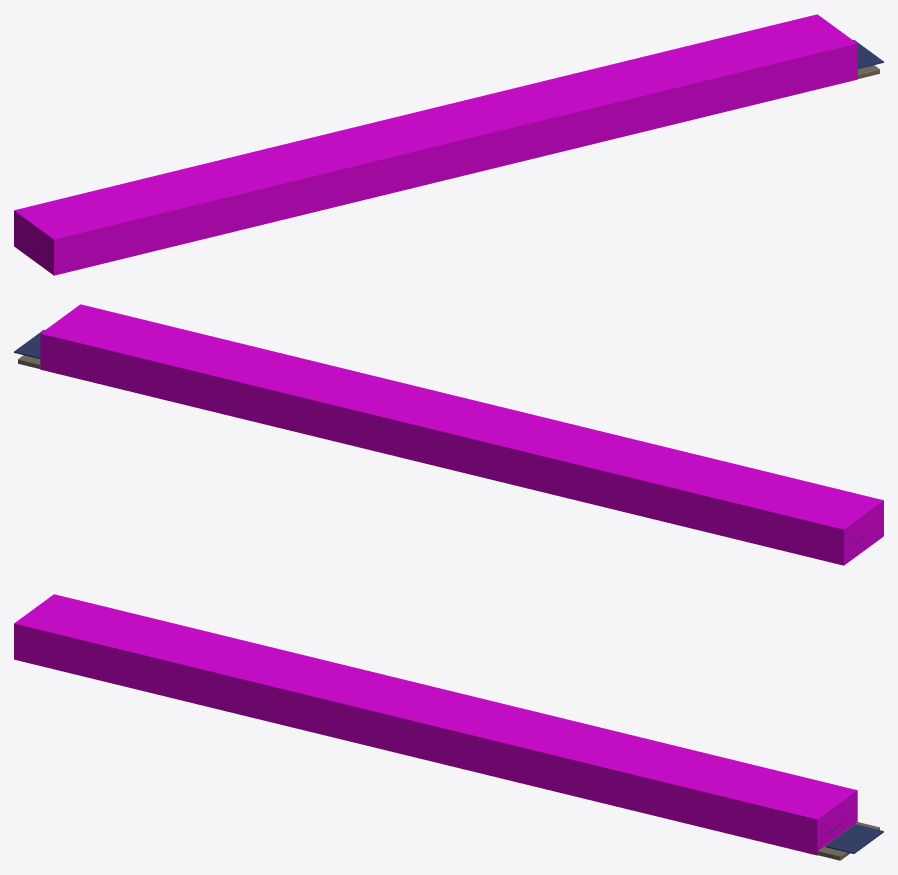
File: PRP_Channel_Restored_A.glb
3 renders of one model, top to bottom at view 1: azimuth 30°, elevation 25°; view 2: azimuth 150°, elevation 25°; view 3: azimuth 330°, elevation 25°, orthographic.
Visible parts, largest first — view 1: COL_Wall_-1, COL_Bed, COL_Wall_1; view 2: COL_Wall_1, COL_Bed, COL_Wall_-1; view 3: COL_Wall_-1, COL_Bed, COL_Wall_1, WATER_Channel.
Part boxes in pixels (x1,y1,x2,y2): COL_Wall_-1: (43, 36, 857, 275); COL_Bed: (24, 22, 846, 267); COL_Wall_1: (14, 14, 827, 253); COL_Wall_1: (40, 326, 854, 565); COL_Bed: (51, 312, 873, 557); COL_Wall_-1: (70, 304, 883, 543); COL_Wall_-1: (14, 616, 828, 855); COL_Bed: (25, 601, 847, 843); COL_Wall_1: (44, 594, 857, 829); WATER_Channel: (825, 820, 883, 853).
Bounding box in the file's own units: 14.55 × 0.6 × 1.21.
